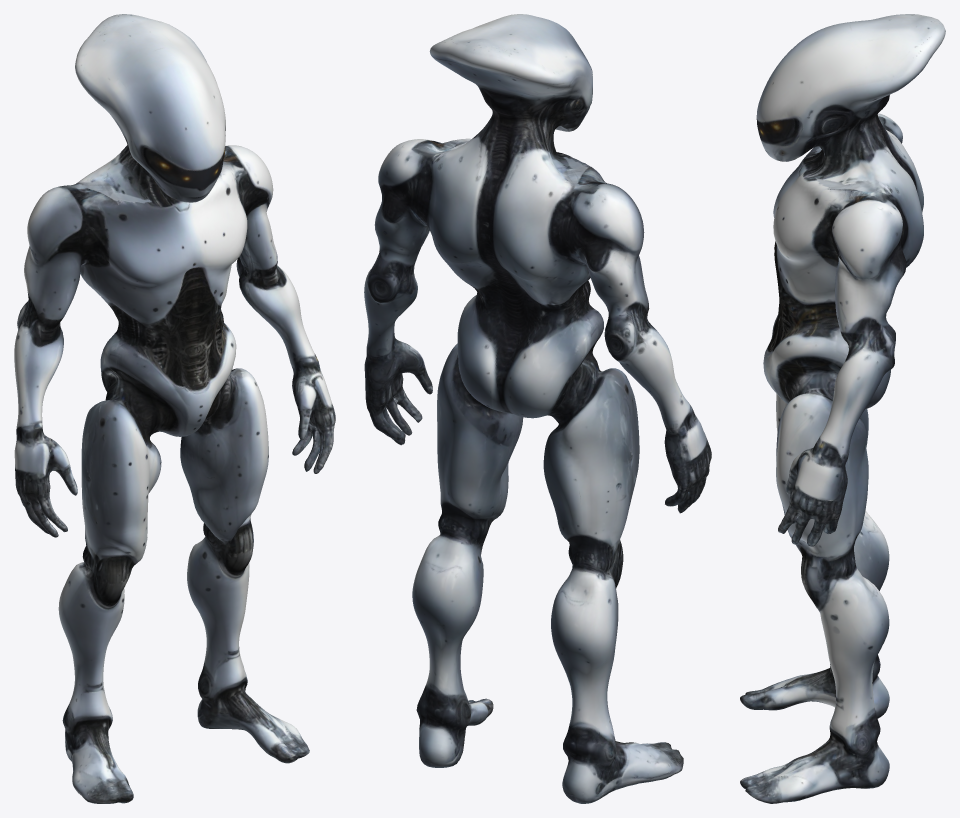
The model's file is Pilbot.glb.
3 renders of one model, left to right at view 1: azimuth 30°, elevation 25°; view 2: azimuth 150°, elevation 25°; view 3: azimuth 270°, elevation 25°, orthographic. The views are drawn at different scales.
Bounding box in the file's own units: 0.9184 × 2 × 0.5121.
Materials: 1 (1 with a texture image).
